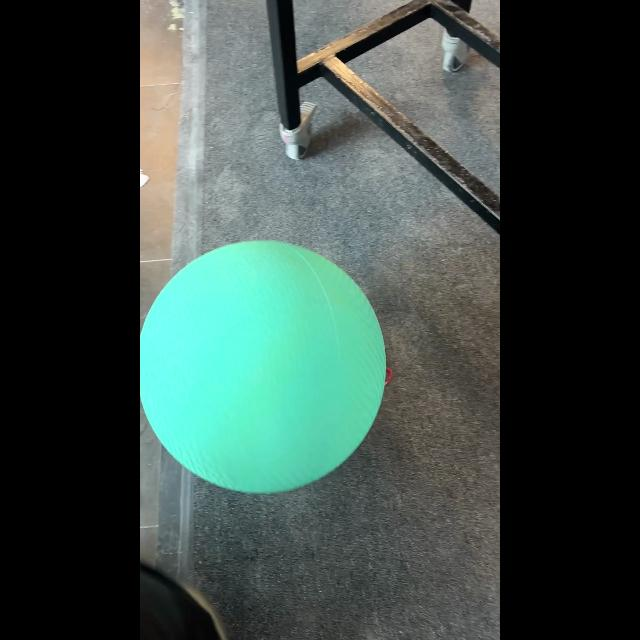ALGAE: (140, 238, 388, 494)
